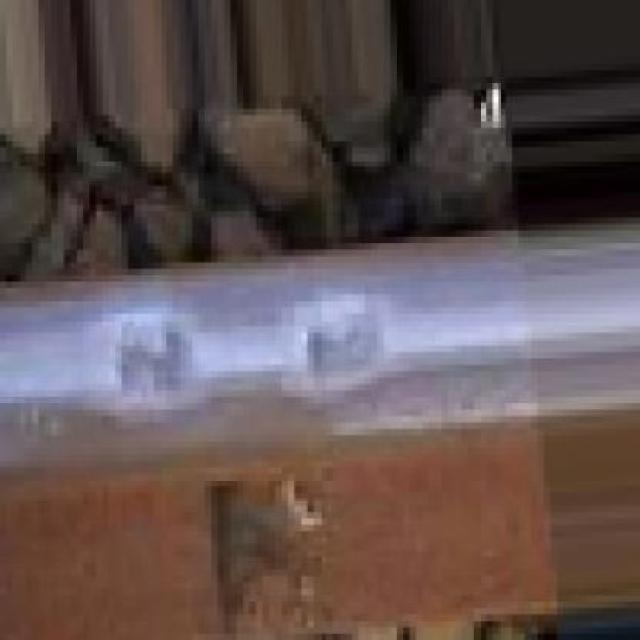defective: (3, 163, 535, 592)
